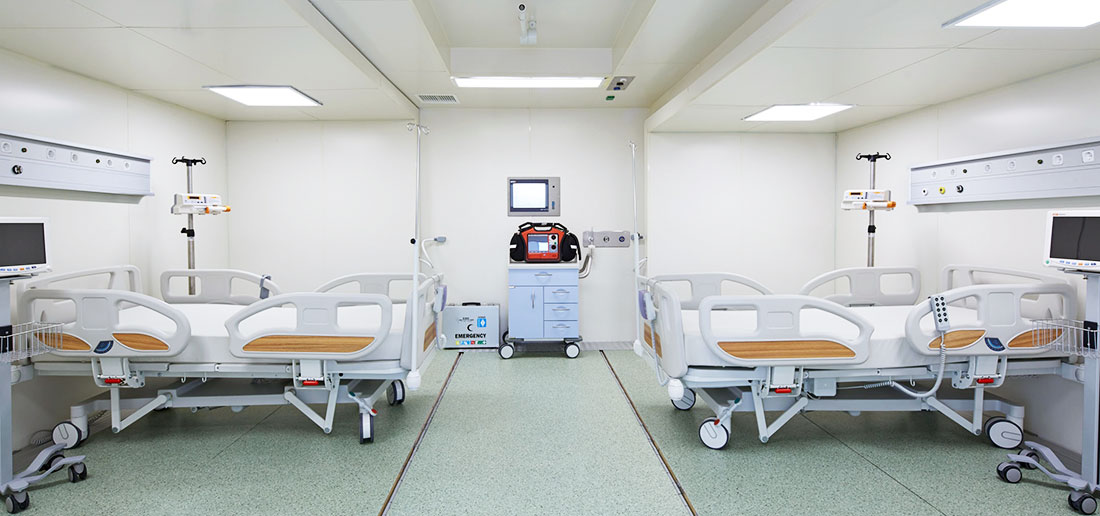TV: (506, 175, 561, 217)
bedrail: (698, 293, 875, 367), (905, 281, 1079, 355), (16, 287, 191, 358), (223, 291, 394, 360), (798, 267, 921, 307), (651, 272, 776, 311), (160, 269, 284, 305), (315, 272, 425, 306)
bedside_monitor: (1043, 207, 1100, 271), (1, 215, 50, 277)
bedside_table: (500, 262, 583, 359)
foot_board: (633, 273, 688, 379), (398, 272, 447, 390)
handle: (529, 292, 539, 309), (552, 323, 570, 330), (552, 306, 570, 313), (535, 273, 552, 280), (551, 289, 568, 296)
hospital_bed: (1, 263, 446, 450), (634, 266, 1079, 451)
iv_pole: (406, 122, 431, 371), (171, 156, 207, 295), (855, 151, 892, 268), (625, 139, 643, 340)
syringe_pump: (171, 195, 233, 216), (841, 191, 896, 214)
